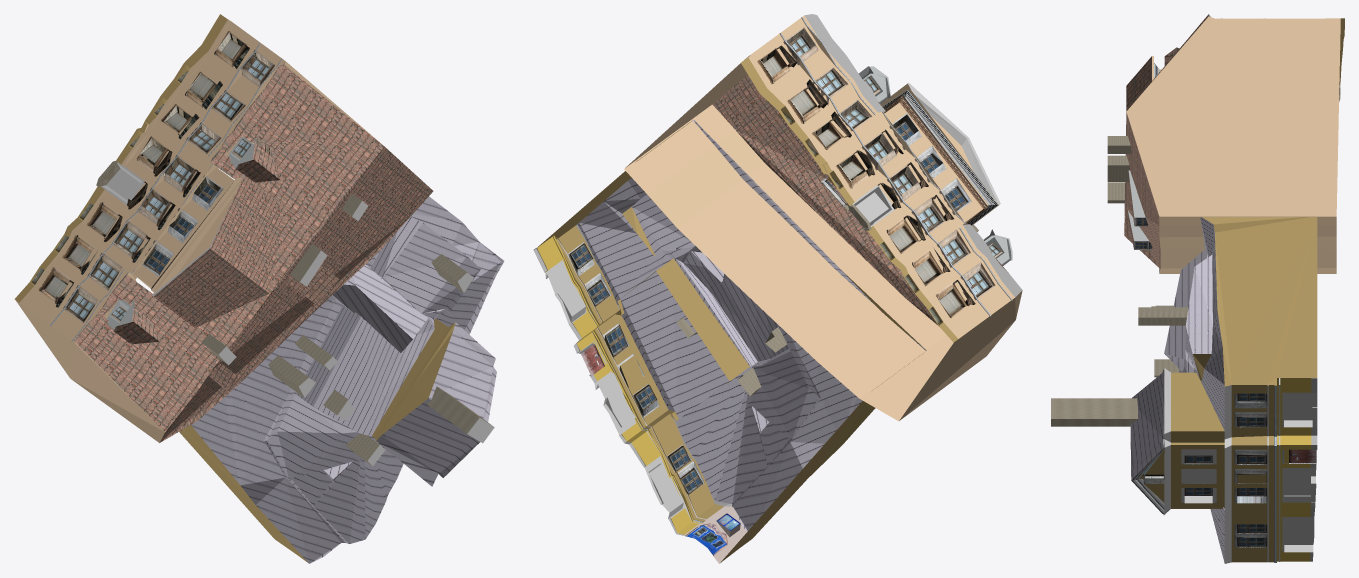
Rendered from Parnu_mnt_4-origo.obj.
3 renders of one model, left to right at view 1: azimuth 30°, elevation 25°; view 2: azimuth 150°, elevation 25°; view 3: azimuth 270°, elevation 25°, orthographic.
Parts seen in each view (by area): view 1: Parnu_mnt_4; view 2: Parnu_mnt_4; view 3: Parnu_mnt_4.
Part boxes in pixels (bbox=[...]): Parnu_mnt_4: bbox=[14, 14, 504, 563]; Parnu_mnt_4: bbox=[533, 14, 1022, 563]; Parnu_mnt_4: bbox=[1051, 14, 1344, 563].
Bounding box in the file's own units: 34.69 × 39.5 × 20.08.
